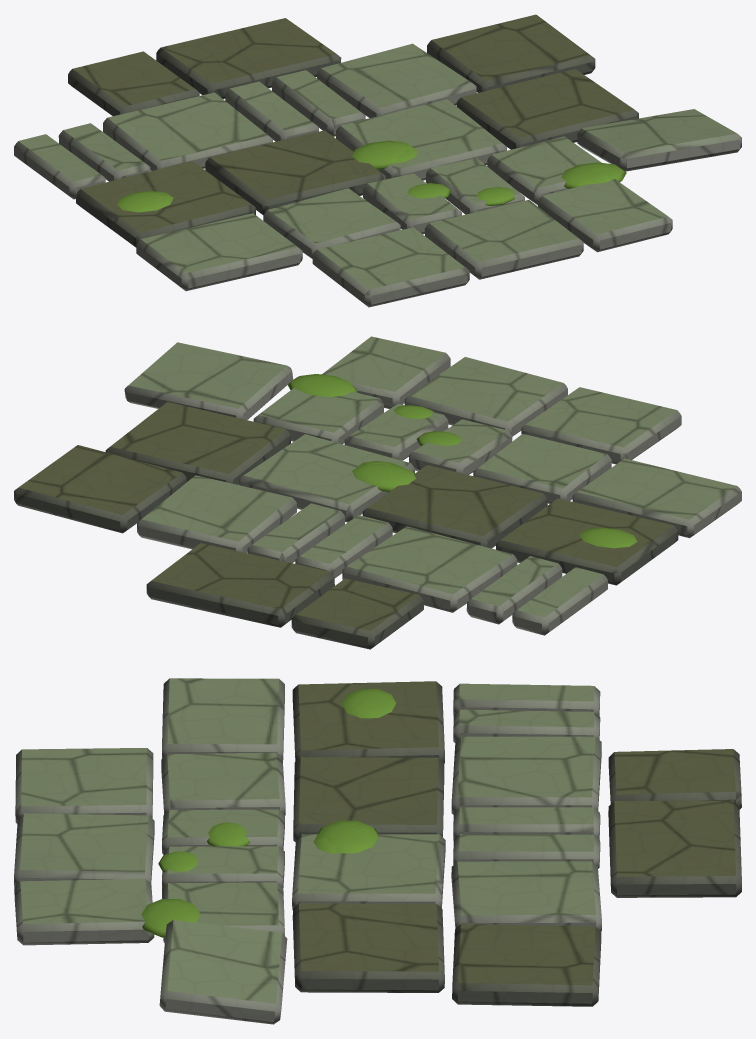
The model's file is stone_floor_tiles.glb.
3 renders of one model, top to bottom at view 1: azimuth 30°, elevation 25°; view 2: azimuth 150°, elevation 25°; view 3: azimuth 270°, elevation 25°, orthographic. The views are drawn at different scales.
Parts seen in each view (by area): view 1: stone_floor_tiles; view 2: stone_floor_tiles; view 3: stone_floor_tiles.
Part boxes in pixels (bbox=[...]): stone_floor_tiles: bbox=[14, 14, 741, 307]; stone_floor_tiles: bbox=[14, 336, 741, 649]; stone_floor_tiles: bbox=[14, 678, 741, 1024].
Size of the model in its own units: 3.92 by 0.2214 by 3.69.
Materials: 3 (3 with a texture image).
